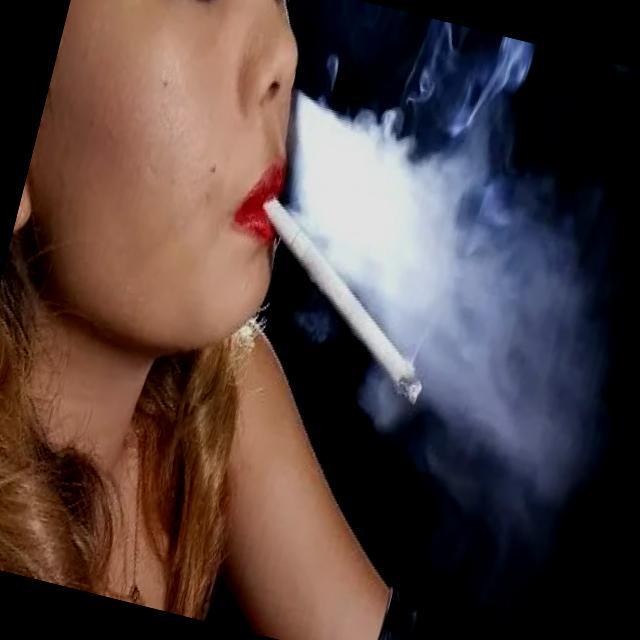smoke: (224, 195, 460, 410)
